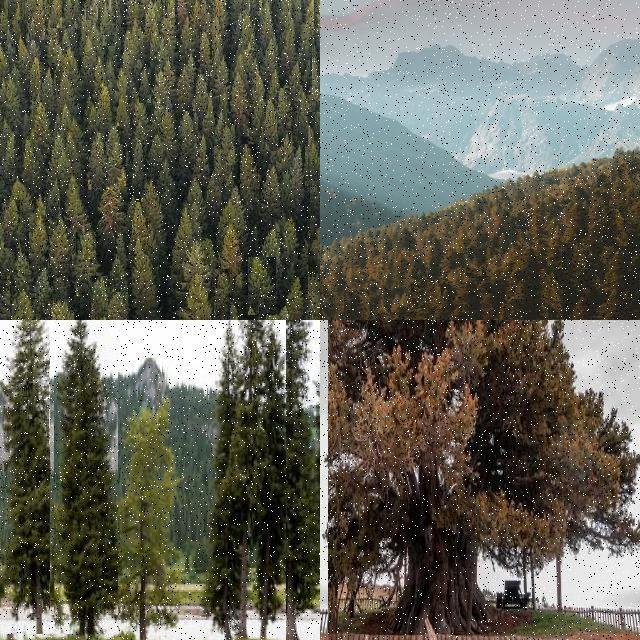tree: (328, 320, 640, 640), (214, 320, 294, 640), (54, 320, 118, 634), (110, 364, 182, 640), (0, 320, 50, 634), (286, 320, 320, 640), (128, 252, 160, 321), (598, 248, 638, 296), (180, 268, 212, 320), (616, 252, 640, 321), (248, 257, 276, 315), (98, 172, 122, 238), (220, 224, 242, 288), (284, 148, 304, 215), (76, 232, 96, 296), (172, 212, 192, 276), (50, 220, 72, 278), (260, 165, 280, 228), (538, 269, 562, 319), (106, 126, 126, 186), (506, 278, 534, 320), (304, 248, 320, 320), (231, 72, 249, 136), (1, 74, 23, 126), (88, 128, 106, 190), (618, 133, 640, 183), (65, 178, 87, 228), (624, 252, 640, 320), (29, 215, 49, 269), (240, 144, 258, 202), (620, 188, 640, 240), (602, 206, 628, 246), (223, 185, 244, 233), (568, 185, 588, 235), (452, 274, 481, 308), (411, 276, 441, 308), (188, 175, 205, 231), (562, 243, 586, 281), (300, 227, 318, 277), (262, 225, 280, 275), (280, 218, 296, 274), (160, 159, 177, 209), (626, 198, 640, 258), (298, 92, 314, 144), (132, 202, 148, 254), (22, 138, 38, 190), (214, 269, 230, 319), (583, 216, 605, 252), (194, 136, 210, 184), (32, 102, 48, 150), (4, 200, 20, 248), (182, 111, 198, 159), (308, 112, 320, 176), (308, 105, 320, 167), (100, 0, 116, 46), (206, 174, 222, 220), (34, 268, 50, 314), (80, 39, 96, 85), (264, 99, 278, 151), (423, 236, 443, 272), (48, 300, 84, 320), (308, 238, 320, 298), (214, 146, 232, 186), (148, 132, 164, 176), (284, 276, 300, 320), (178, 16, 194, 60), (212, 56, 228, 100), (92, 276, 108, 320), (624, 558, 640, 602), (0, 131, 14, 181), (545, 226, 563, 264), (570, 296, 598, 320), (530, 212, 546, 254), (346, 292, 370, 320), (320, 292, 344, 320), (109, 255, 125, 297), (104, 292, 128, 320), (12, 292, 36, 320), (16, 252, 32, 292), (29, 0, 45, 40), (60, 72, 76, 111), (277, 88, 291, 132), (258, 0, 272, 44), (194, 74, 208, 118), (132, 140, 144, 190), (286, 62, 302, 98), (620, 292, 640, 320), (328, 266, 348, 294), (265, 36, 279, 76), (221, 125, 235, 165), (56, 150, 70, 190), (46, 178, 60, 218), (305, 146, 319, 186), (98, 87, 110, 133), (312, 230, 321, 290), (42, 66, 56, 104), (204, 96, 216, 140), (200, 32, 212, 76), (0, 268, 10, 320), (310, 186, 320, 236), (312, 223, 320, 284), (628, 96, 640, 136), (310, 235, 320, 283), (30, 62, 42, 102), (242, 10, 254, 50), (480, 292, 498, 318), (312, 197, 321, 249), (312, 122, 320, 180), (212, 0, 226, 32), (308, 284, 320, 320), (18, 36, 30, 72), (614, 146, 630, 172), (445, 308, 479, 320), (139, 69, 151, 103), (396, 226, 416, 246), (373, 298, 391, 320), (58, 105, 70, 138), (65, 0, 79, 28), (312, 128, 320, 176), (312, 262, 320, 310), (312, 172, 320, 220), (11, 2, 21, 40), (308, 290, 320, 320), (312, 46, 320, 90), (312, 88, 320, 132), (50, 0, 62, 28), (312, 259, 320, 301), (632, 213, 640, 253), (312, 172, 320, 212), (312, 96, 320, 136), (8, 0, 24, 20), (391, 304, 415, 316), (0, 45, 8, 81), (312, 204, 320, 240), (312, 189, 320, 225), (394, 256, 408, 276), (314, 10, 320, 54), (460, 216, 476, 232), (512, 227, 524, 247), (86, 0, 98, 20), (632, 79, 640, 107), (515, 210, 529, 226), (591, 188, 609, 200), (382, 233, 394, 251), (314, 28, 320, 64), (312, 294, 320, 320), (632, 128, 640, 152), (466, 264, 482, 276), (314, 33, 320, 65), (250, 0, 262, 16), (165, 0, 175, 18), (632, 109, 640, 131), (458, 253, 470, 267), (14, 0, 26, 14), (632, 77, 640, 97), (499, 232, 509, 248), (632, 32, 640, 52), (458, 231, 470, 243), (334, 308, 346, 320), (632, 136, 640, 154), (632, 163, 640, 181), (569, 162, 579, 176), (597, 173, 611, 183), (608, 166, 616, 182), (0, 192, 4, 224), (1, 163, 4, 200), (549, 167, 559, 177), (551, 184, 559, 196), (634, 182, 640, 198), (634, 142, 640, 158), (314, 0, 320, 16), (316, 0, 320, 24), (397, 316, 419, 320), (634, 183, 640, 197), (634, 157, 640, 171), (636, 126, 640, 144), (578, 162, 588, 168), (636, 62, 640, 76), (636, 110, 640, 122), (590, 157, 598, 163), (538, 181, 546, 187), (636, 114, 640, 126), (636, 181, 640, 191), (636, 130, 640, 136)
